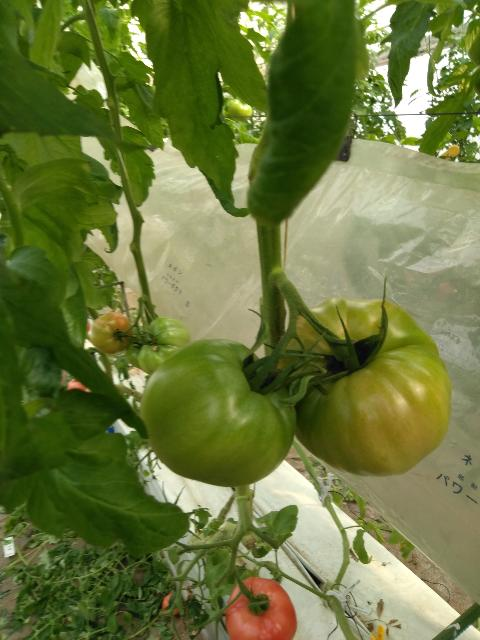b_fully_ripened: (225, 576, 297, 640)
b_green: (274, 296, 452, 477), (141, 338, 297, 488), (138, 315, 191, 376), (126, 325, 148, 369)
b_half_ripened: (91, 311, 133, 353)
